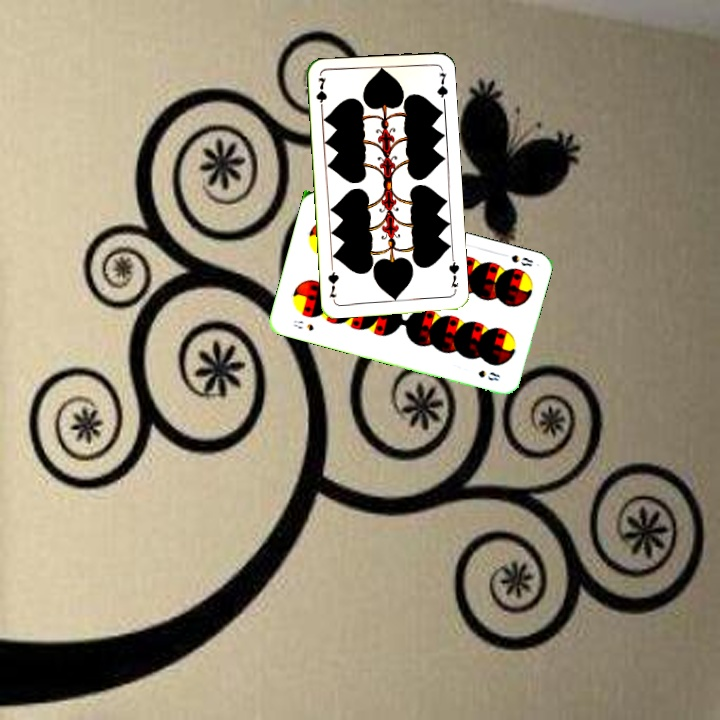G7: (312, 73, 330, 114), (445, 254, 462, 295)
S8: (497, 249, 536, 269), (289, 316, 316, 333)
